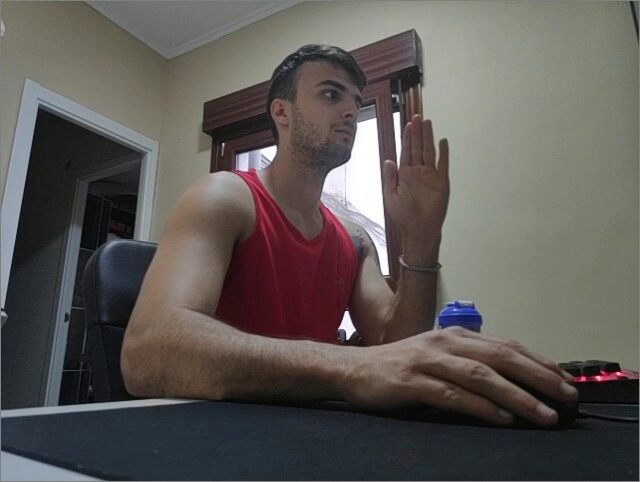Palm: (382, 113, 451, 232)
